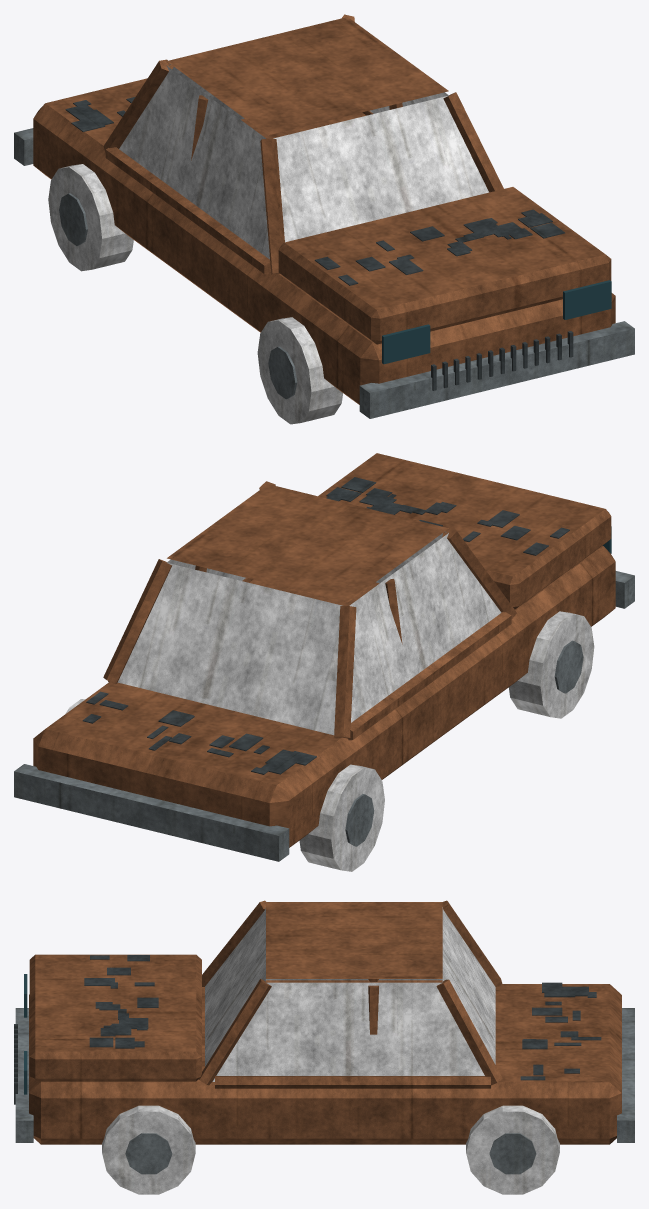
The model's file is outskirts-wreck.glb.
3 views of the same model, one above another, from view 1: azimuth 30°, elevation 25°; view 2: azimuth 150°, elevation 25°; view 3: azimuth 270°, elevation 25° (orthographic). The views are drawn at different scales.
Parts seen in each view (by area): view 1: CBOK1_WreckSedan_Rust, CBOK1_WreckSedan_Rubber, CBOK1_WreckSedan_RoofMetal, CBOK1_WreckSedan_BlackFrame, CBOK1_WreckSedan_SmokedGlass; view 2: CBOK1_WreckSedan_Rust, CBOK1_WreckSedan_Rubber, CBOK1_WreckSedan_RoofMetal, CBOK1_WreckSedan_BlackFrame; view 3: CBOK1_WreckSedan_Rust, CBOK1_WreckSedan_Rubber, CBOK1_WreckSedan_RoofMetal, CBOK1_WreckSedan_BlackFrame.
Boxes of the visible parts, x1,y1,x2,y2 form: CBOK1_WreckSedan_Rust: [33, 14, 615, 404]; CBOK1_WreckSedan_Rubber: [48, 64, 488, 424]; CBOK1_WreckSedan_RoofMetal: [14, 128, 634, 418]; CBOK1_WreckSedan_BlackFrame: [65, 96, 573, 390]; CBOK1_WreckSedan_SmokedGlass: [382, 280, 611, 364]; CBOK1_WreckSedan_Rust: [33, 453, 615, 847]; CBOK1_WreckSedan_Rubber: [65, 531, 594, 871]; CBOK1_WreckSedan_RoofMetal: [14, 571, 634, 861]; CBOK1_WreckSedan_BlackFrame: [82, 477, 569, 774]; CBOK1_WreckSedan_Rust: [29, 900, 621, 1144]; CBOK1_WreckSedan_Rubber: [102, 907, 559, 1194]; CBOK1_WreckSedan_RoofMetal: [15, 1008, 634, 1174]; CBOK1_WreckSedan_BlackFrame: [14, 955, 601, 1104].
Bounding box in the file's own units: 2.1 × 1.55 × 4.5.
5 materials, 4 textured.
